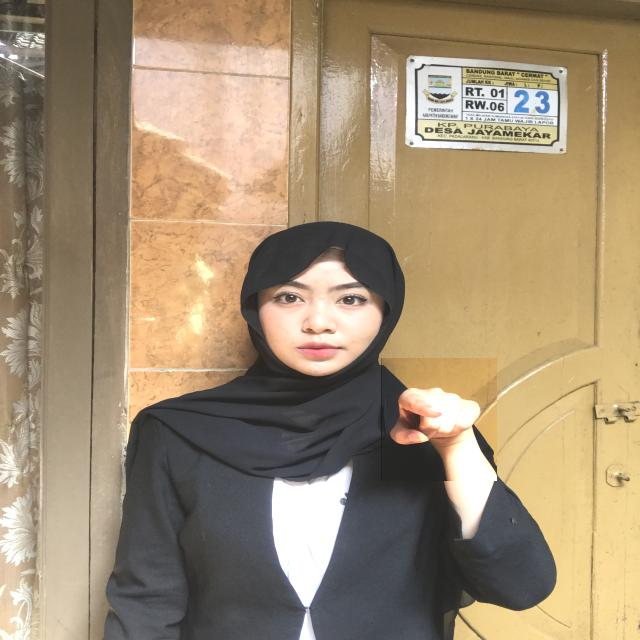kamu: (381, 358, 496, 481)
